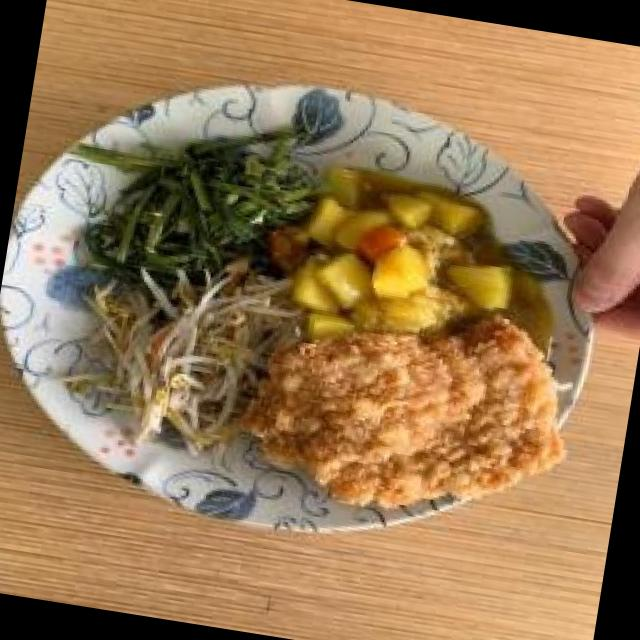curry: (302, 186, 520, 331)
fried_chicken: (274, 316, 564, 512)
mung_bean_sprouts: (101, 281, 272, 428)
water_spinach: (112, 138, 300, 272)
